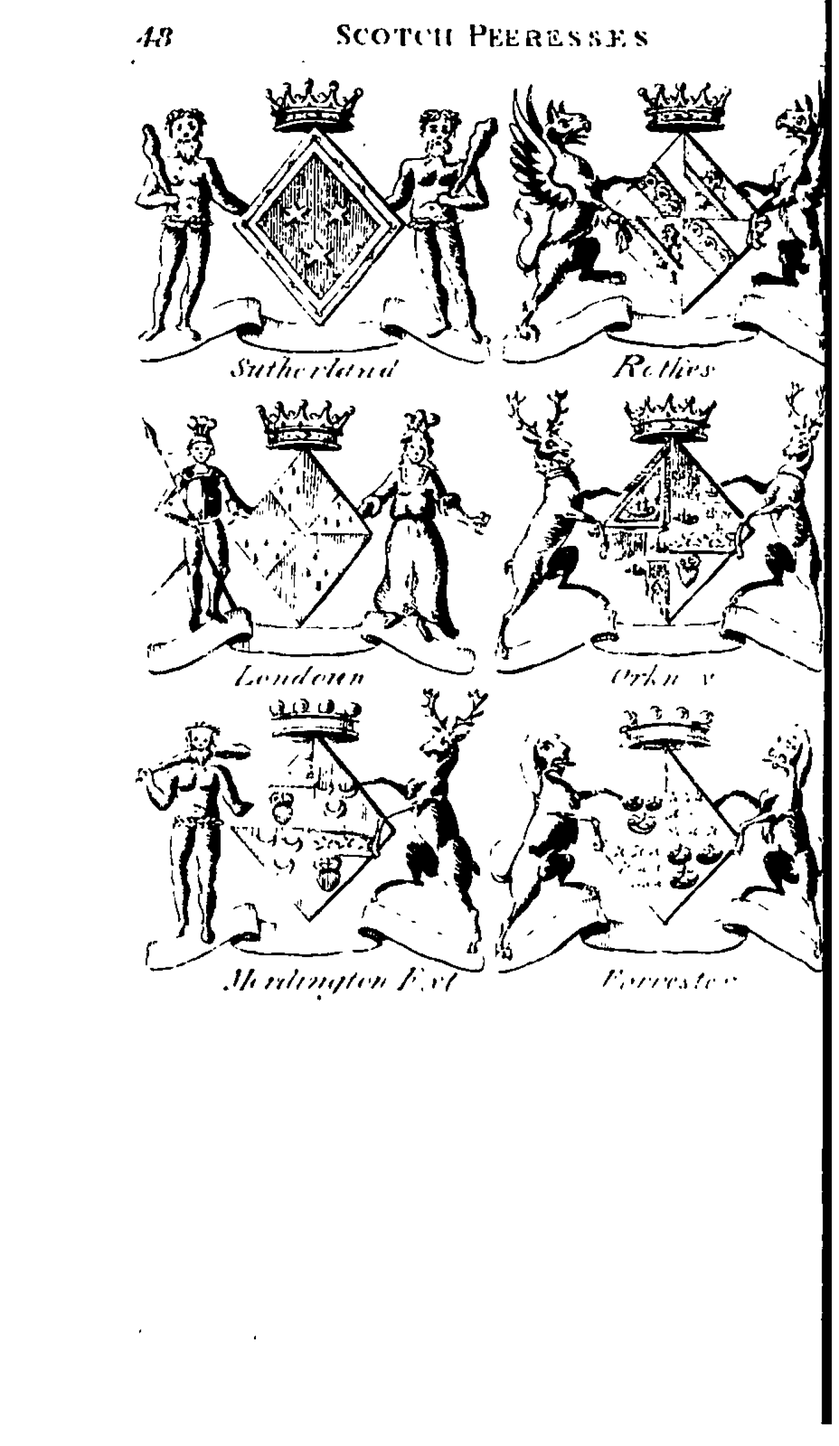coat_of_arms: (113, 684, 502, 1021), (118, 382, 487, 693), (495, 684, 839, 1013), (122, 83, 494, 385), (491, 380, 839, 692), (501, 81, 833, 391)
